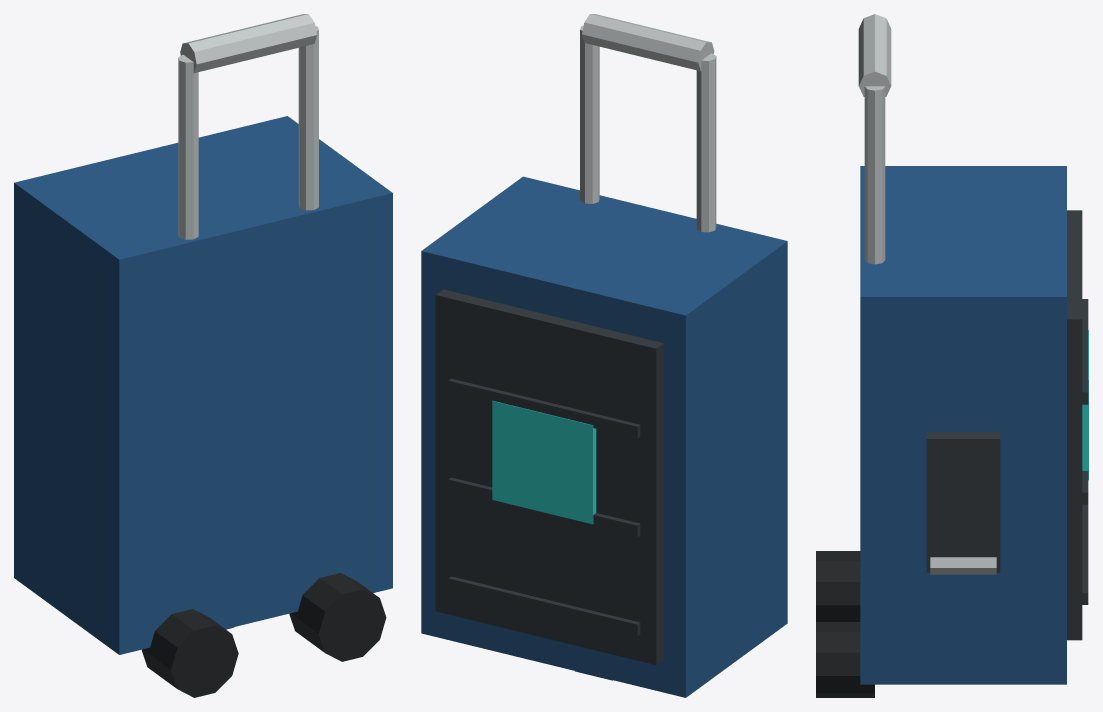
Rendered from HomebaseCabinTrolley_LOD00.gltf.
3 views of the same model, side by side, from view 1: azimuth 30°, elevation 25°; view 2: azimuth 150°, elevation 25°; view 3: azimuth 270°, elevation 25° (orthographic). The views are drawn at different scales.
Visible parts, largest first — view 1: HomebaseCabinTrolley_node; view 2: HomebaseCabinTrolley_node; view 3: HomebaseCabinTrolley_node.
Boxes of the visible parts, <box> form: HomebaseCabinTrolley_node: <box>14,14,392,697</box>; HomebaseCabinTrolley_node: <box>421,14,787,697</box>; HomebaseCabinTrolley_node: <box>816,14,1088,697</box>.
Size of the model in its own units: 0.453 by 0.922 by 0.37.
